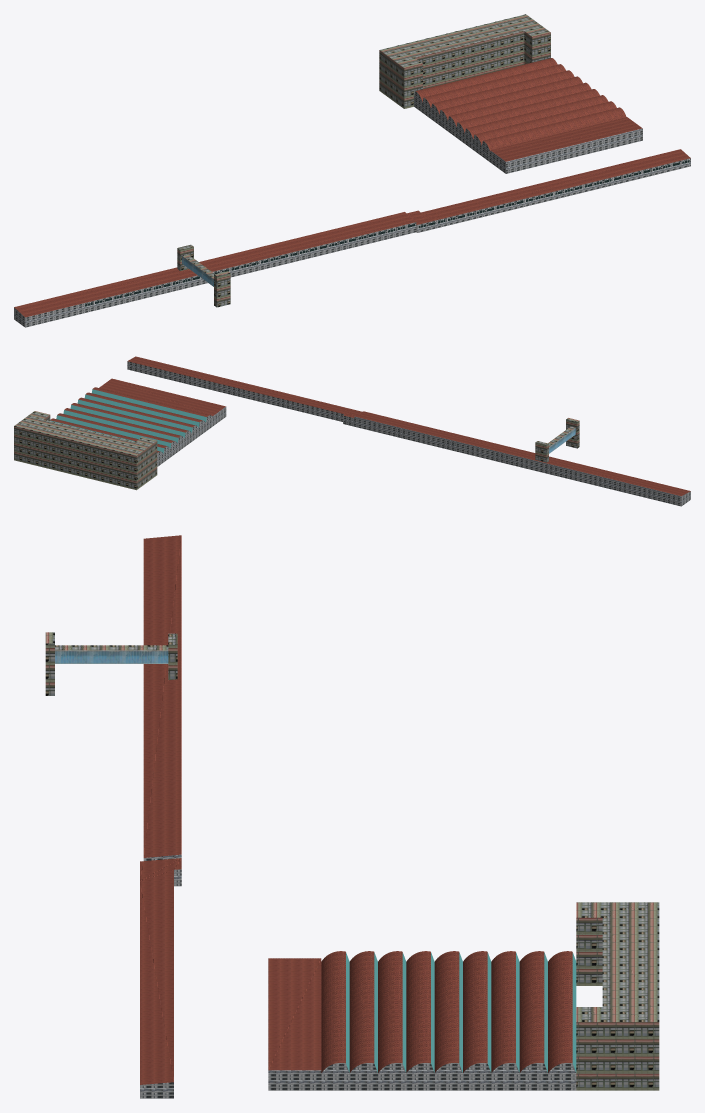
Rendered from KoPF_Rieter_Ziegelei_lod3.dae.
3 renders of one model, top to bottom at view 1: azimuth 30°, elevation 25°; view 2: azimuth 150°, elevation 25°; view 3: azimuth 270°, elevation 25°, orthographic. The views are drawn at different scales.
Visible parts, largest first — view 1: SketchUp (×16); view 2: SketchUp (×21); view 3: SketchUp (×15).
Boxes of the visible parts, box(x1,y1,x2,y2) form: SketchUp (×16): box(14, 14, 690, 327); SketchUp (×21): box(14, 356, 690, 506); SketchUp (×15): box(55, 535, 659, 1090).
Bounding box in the file's own units: 13386 × 6398 × 787.
